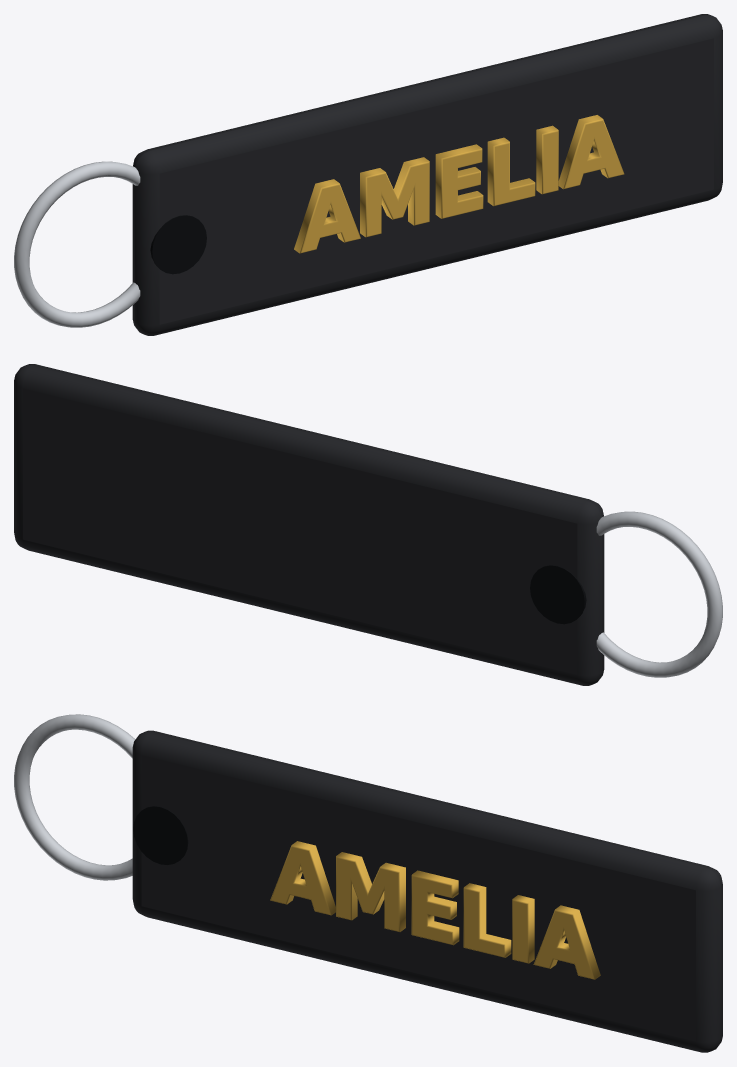
The model's file is keyring.glb.
3 views of the same model, one above another, from view 1: azimuth 30°, elevation 25°; view 2: azimuth 150°, elevation 25°; view 3: azimuth 330°, elevation 25° (orthographic).
Parts seen in each view (by area): view 1: plate, name, split, eyelet; view 2: plate, split, eyelet; view 3: plate, name, split, eyelet.
Part boxes in pixels (x1,y1,x2,y2): plate: [132, 14, 722, 335]; name: [294, 115, 624, 253]; split: [14, 161, 140, 327]; eyelet: [150, 215, 206, 274]; plate: [14, 364, 604, 685]; split: [596, 511, 722, 677]; eyelet: [530, 565, 586, 624]; plate: [132, 730, 722, 1052]; name: [270, 841, 600, 979]; split: [14, 714, 135, 880]; eyelet: [133, 806, 188, 864].
Bounding box in the file's own units: 3.61 × 0.9043 × 0.221.
